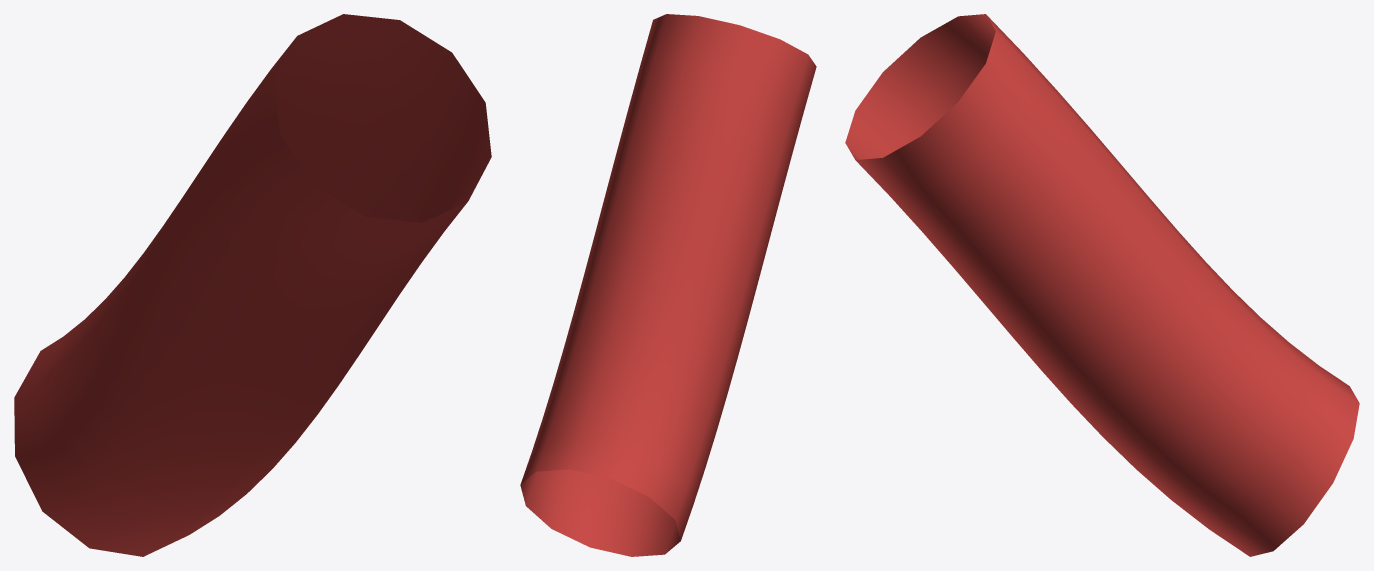
3 renders of one model, left to right at view 1: azimuth 30°, elevation 25°; view 2: azimuth 150°, elevation 25°; view 3: azimuth 270°, elevation 25°, orthographic. The views are drawn at different scales.
Visible parts, largest first — view 1: 右侧胸肩峰动脉; view 2: 右侧胸肩峰动脉; view 3: 右侧胸肩峰动脉.
Part boxes in pixels (<box>): 右侧胸肩峰动脉: <box>14,14,491,556</box>; 右侧胸肩峰动脉: <box>520,14,816,556</box>; 右侧胸肩峰动脉: <box>845,14,1359,556</box>.
Size of the model in its own units: 0.007 by 0.0174 by 0.0153.
